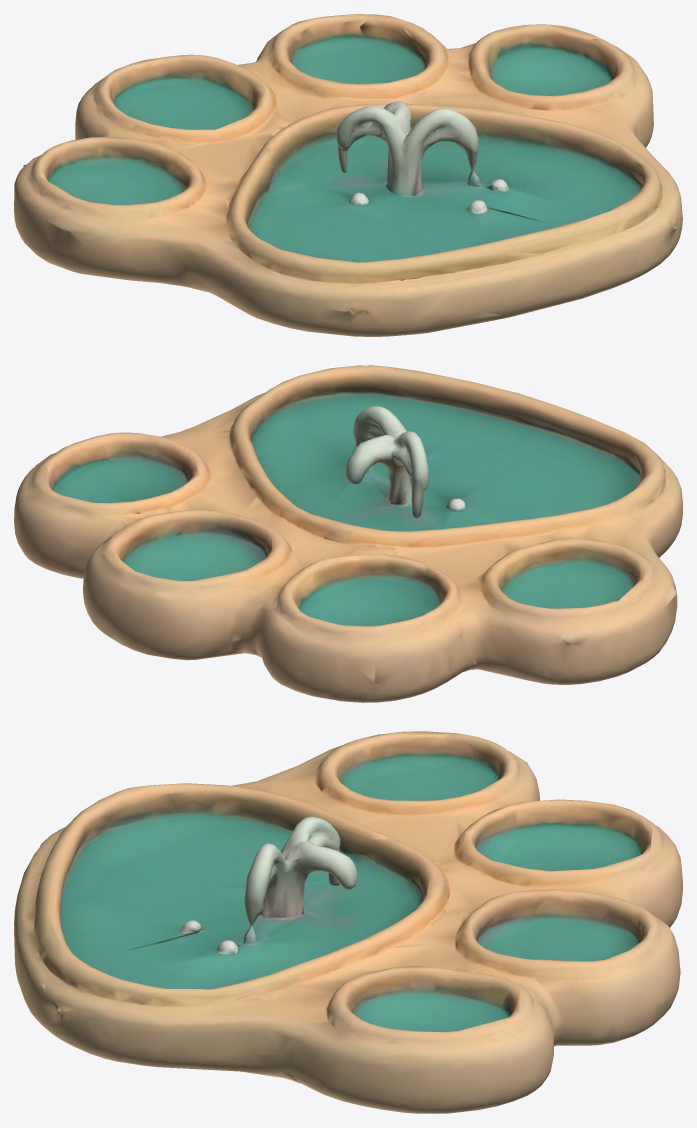
File: prop-paw-fountain.glb
The picture shows the model from 3 angles, top to bottom: view 1: azimuth 30°, elevation 25°; view 2: azimuth 150°, elevation 25°; view 3: azimuth 270°, elevation 25°; orthographic projection. The views are drawn at different scales.
Parts seen in each view (by area): view 1: Mesh_0; view 2: Mesh_0; view 3: Mesh_0.
Part boxes in pixels (x1,y1,x2,y2): Mesh_0: (14, 14, 682, 336); Mesh_0: (14, 365, 682, 702); Mesh_0: (14, 731, 682, 1113).
Size of the model in its own units: 2 by 0.3861 by 1.74.
1 material, 1 textured.
